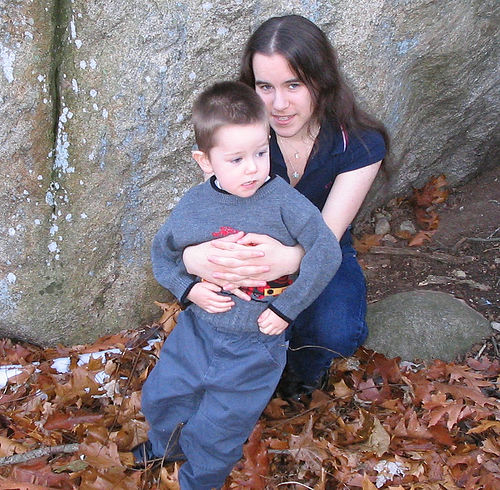without_mask: (189, 109, 279, 199), (252, 43, 333, 137)
